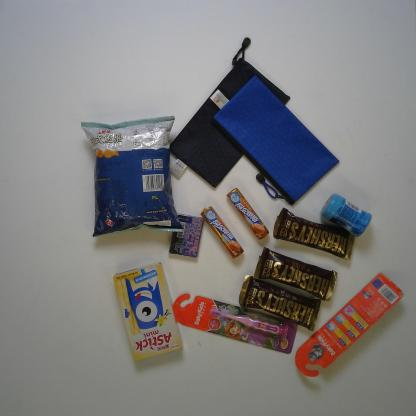Candy: (224, 186, 270, 242), (198, 205, 244, 259)
Chocolate: (235, 274, 326, 332), (253, 247, 343, 302), (272, 208, 356, 261)
Dessert: (112, 262, 185, 364)
Gum: (317, 190, 375, 238), (166, 210, 207, 259)
Personal Hygiene: (290, 272, 404, 382), (168, 290, 298, 356)
Puffed Food: (78, 114, 187, 239)
Stationery: (165, 37, 293, 187), (212, 71, 339, 207)
